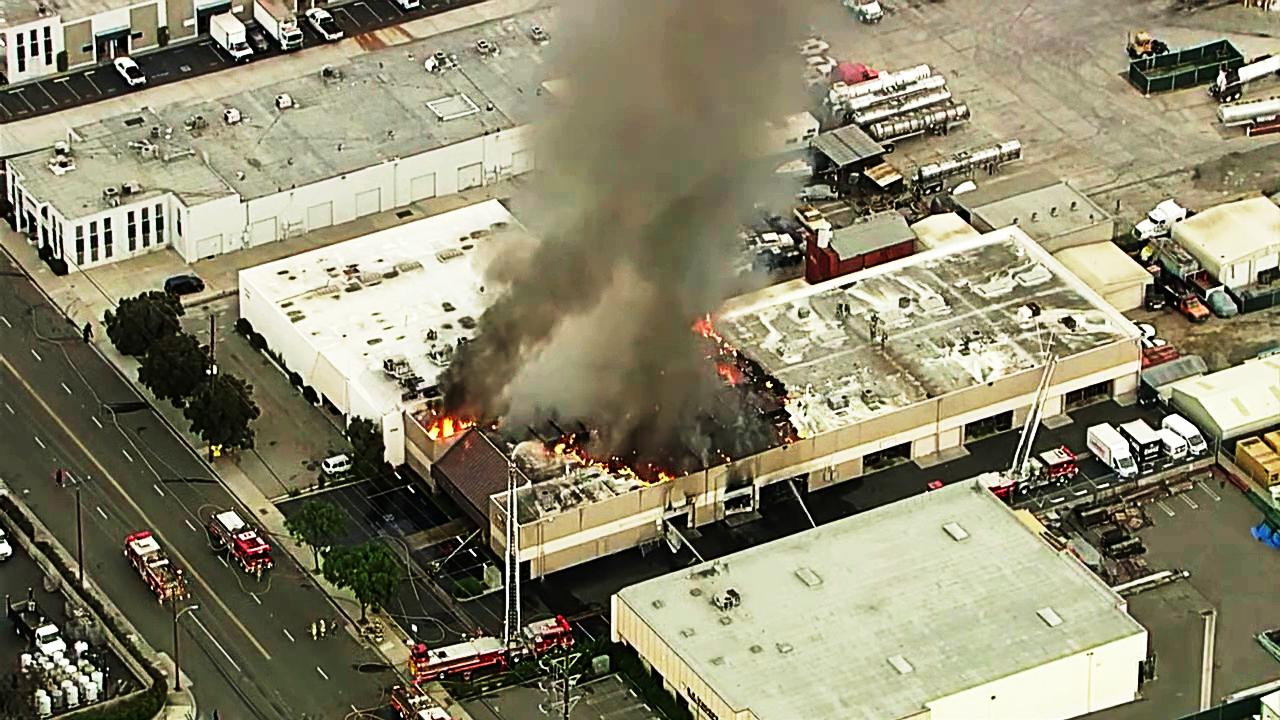smoke: (540, 13, 757, 350)
